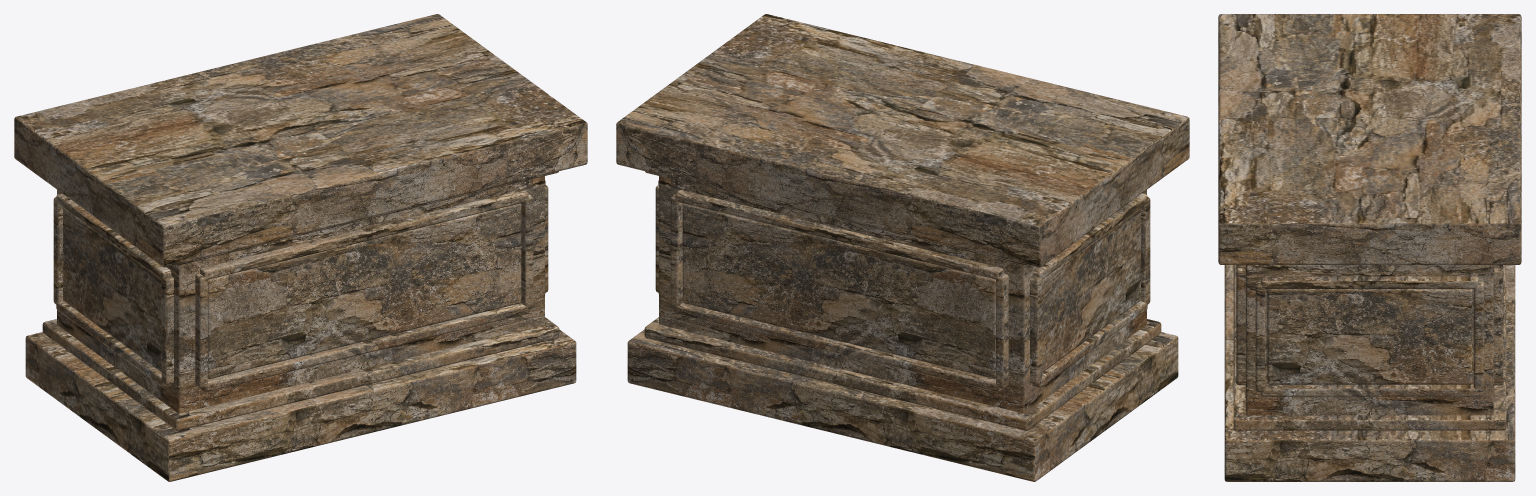
The model's file is stone-ark-v01.glb.
3 renders of one model, left to right at view 1: azimuth 30°, elevation 25°; view 2: azimuth 150°, elevation 25°; view 3: azimuth 270°, elevation 25°, orthographic.
Parts seen in each view (by area): view 1: stone-ark-v01; view 2: stone-ark-v01; view 3: stone-ark-v01.
Part boxes in pixels (box(x1,y1,x2,y2)): stone-ark-v01: box(14, 14, 587, 481); stone-ark-v01: box(616, 14, 1189, 481); stone-ark-v01: box(1218, 14, 1521, 481).
Bounding box in the file's own units: 1.76 × 1.03 × 1.07.
Materials: 1 (1 with a texture image).
